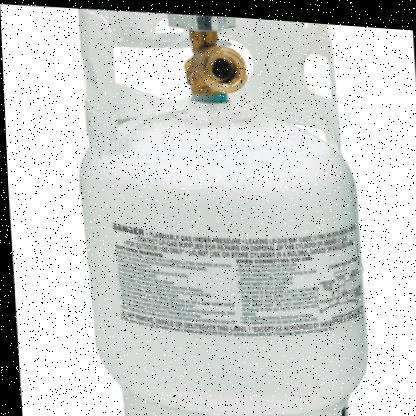gas-tank: (47, 2, 415, 415)
